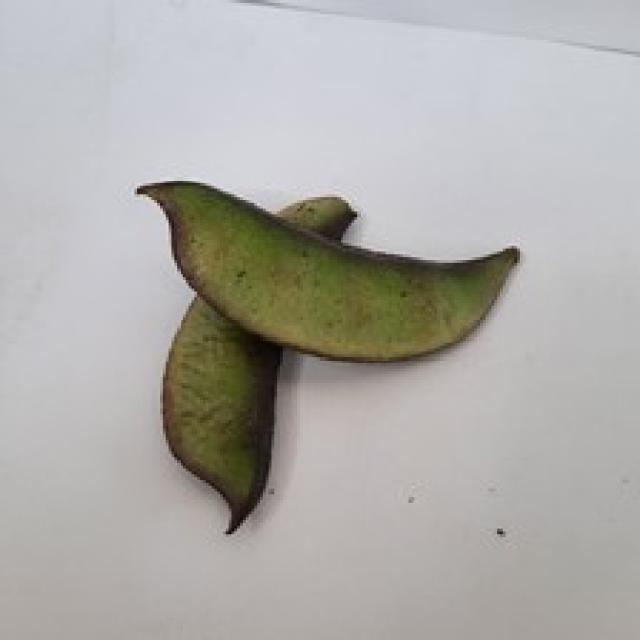Bean: (134, 177, 520, 360), (160, 292, 280, 534)
